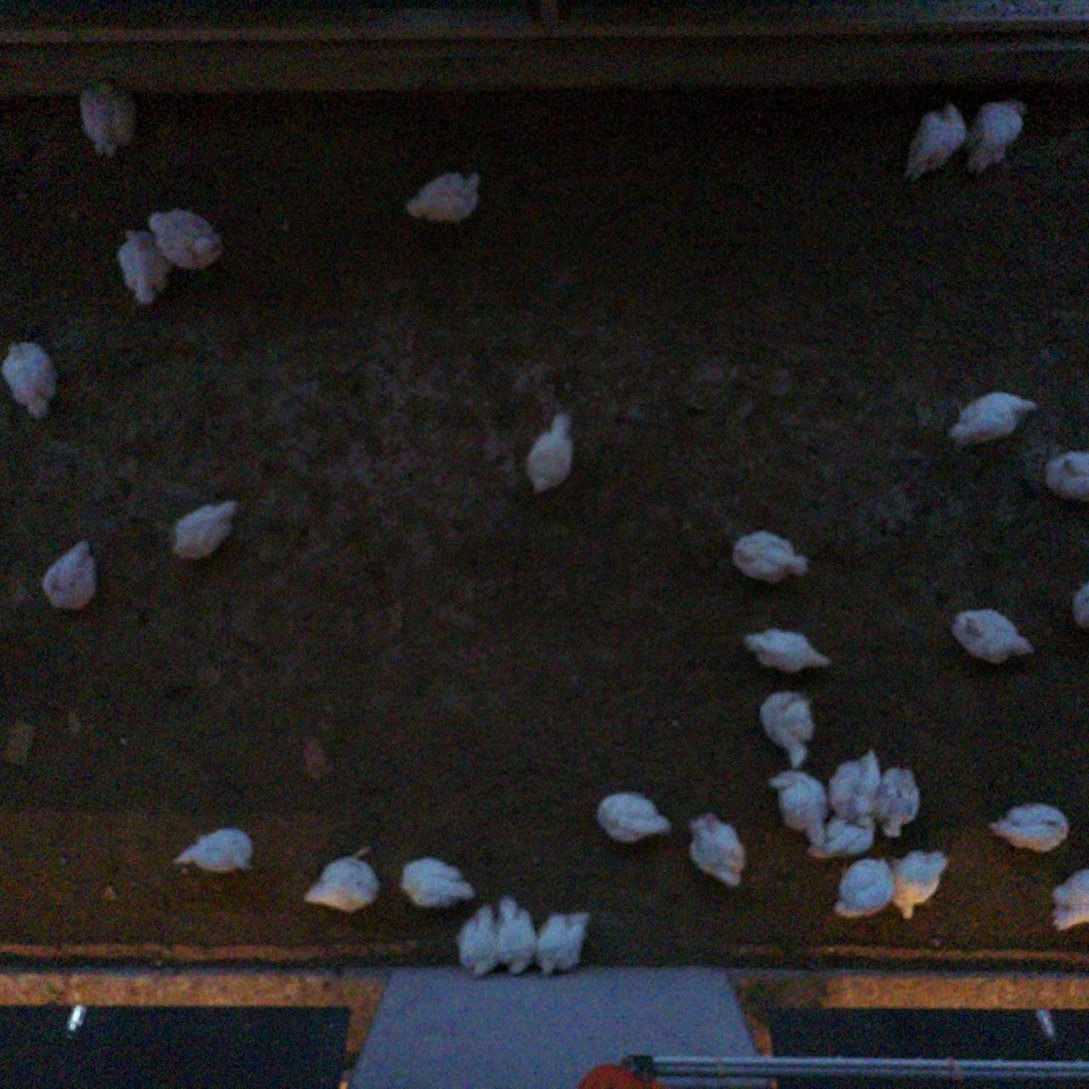chicken: (942, 383, 1043, 455), (300, 838, 387, 917), (899, 99, 972, 190), (74, 70, 144, 164), (739, 621, 836, 687), (948, 601, 1041, 669), (403, 162, 488, 234), (35, 533, 105, 620), (519, 409, 582, 505), (147, 204, 228, 278), (685, 807, 753, 895), (765, 766, 832, 853), (0, 335, 64, 425), (888, 845, 960, 924), (167, 494, 243, 568), (983, 795, 1072, 858), (170, 819, 258, 881), (727, 527, 816, 588), (965, 94, 1029, 178), (594, 785, 673, 852), (398, 850, 480, 914), (825, 744, 888, 827), (759, 689, 821, 773), (113, 222, 173, 308), (829, 852, 898, 923), (534, 904, 594, 981), (492, 891, 543, 981), (450, 901, 504, 983), (805, 811, 879, 867), (874, 761, 924, 841), (1039, 440, 1089, 505), (1045, 867, 1089, 938), (1063, 573, 1089, 634)
